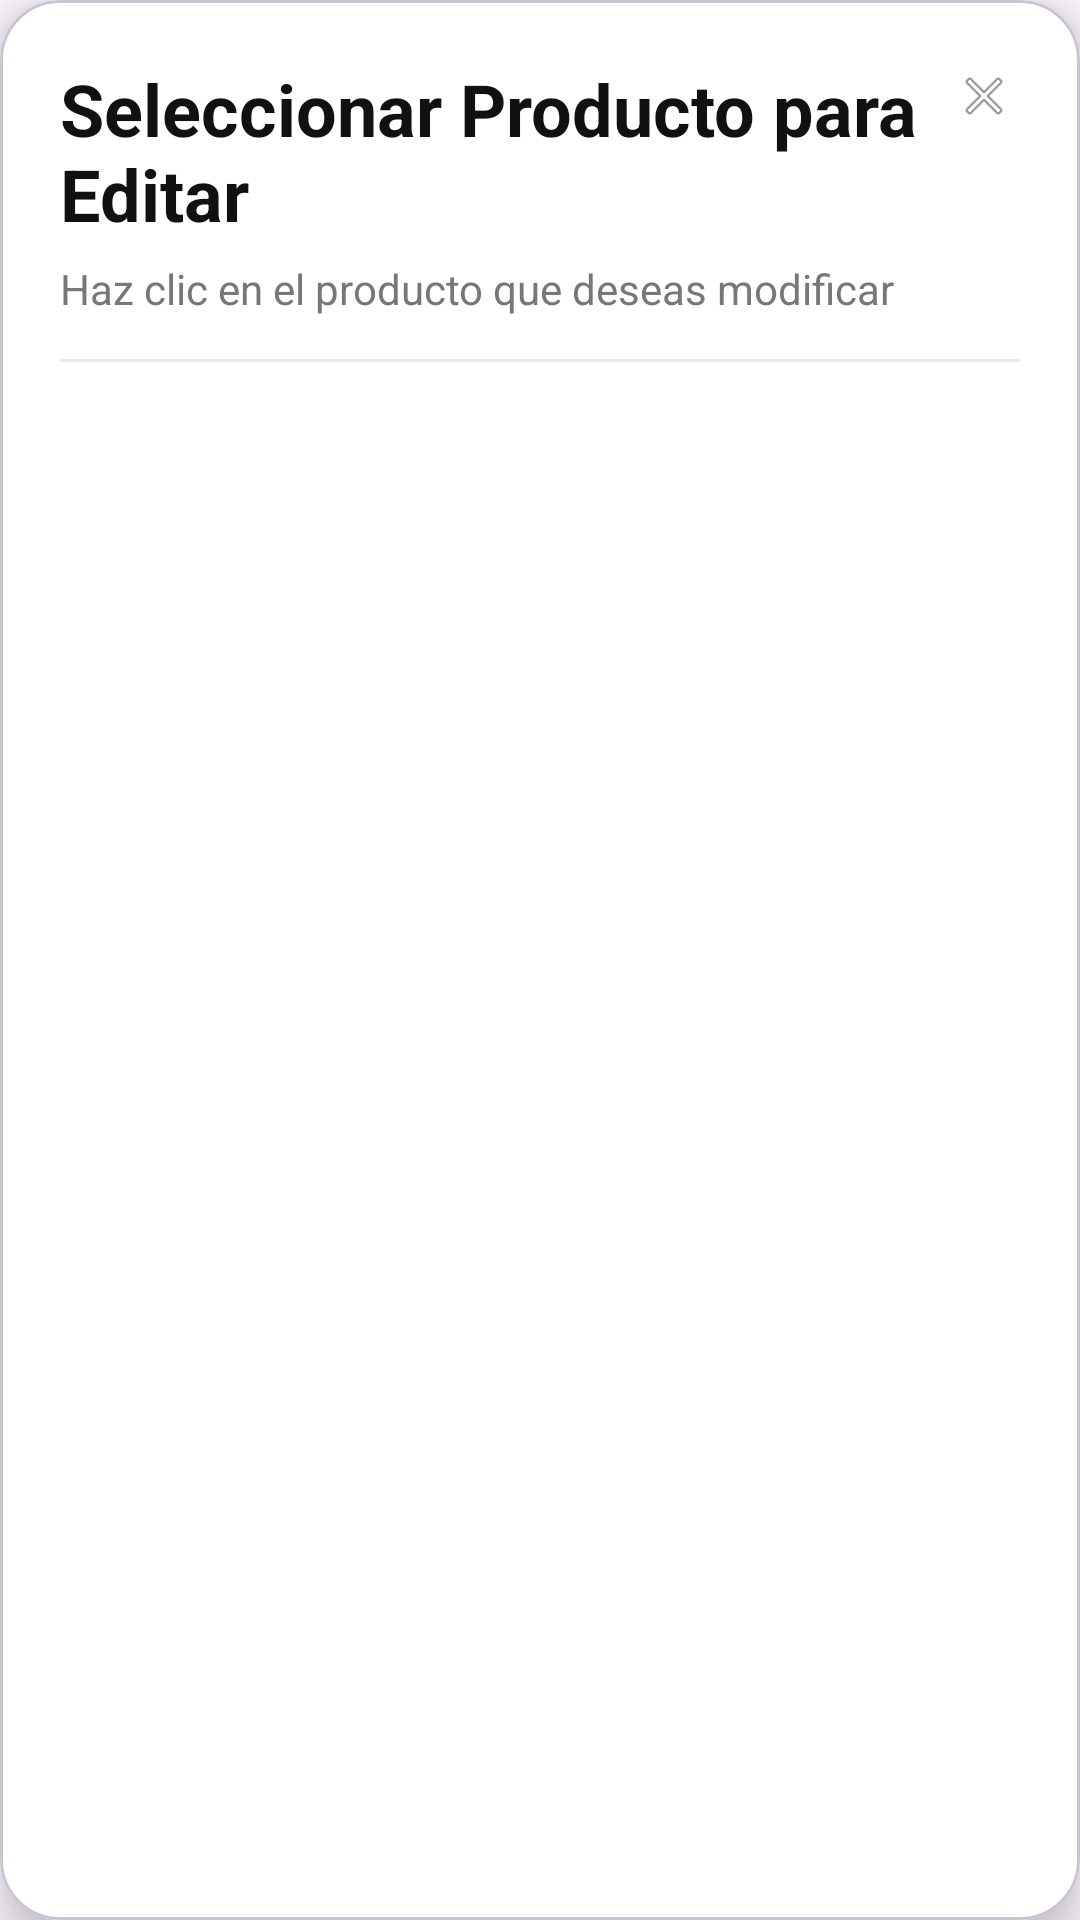

Where to tap for icons on this 1080 x 1920 app screen, as (x=x, y=y):
Cerrar: (x=984, y=96)
